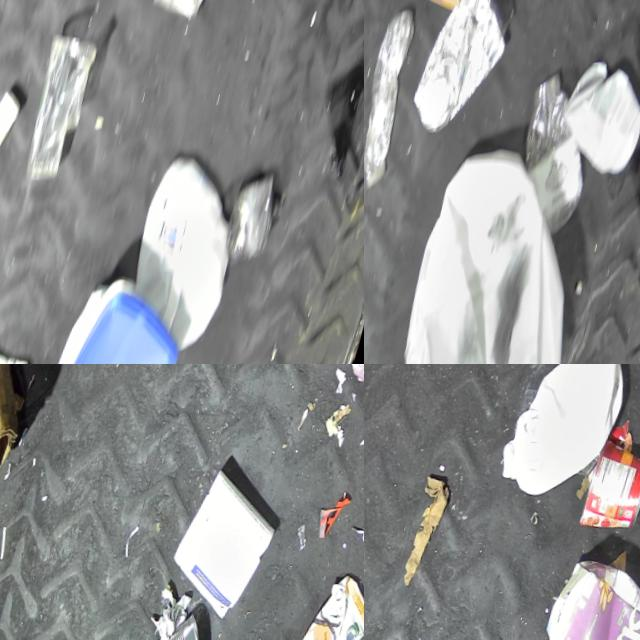can: (407, 0, 527, 147), (222, 169, 288, 274), (576, 438, 640, 542), (144, 604, 225, 640), (149, 0, 229, 26)
milk_jug: (369, 138, 624, 364), (118, 151, 259, 359), (490, 364, 639, 513)
non_white_jug: (531, 549, 640, 640), (284, 566, 364, 640)
plastic_bottle: (496, 68, 617, 262), (364, 5, 431, 198)
